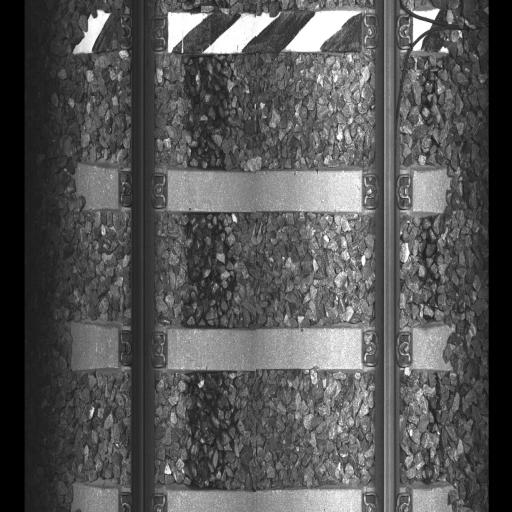clip: (118, 165, 168, 210), (360, 167, 413, 209), (116, 10, 167, 50), (116, 328, 168, 366), (360, 328, 412, 366), (362, 14, 414, 50), (118, 482, 168, 502), (362, 489, 408, 502)
sleeper: (70, 160, 467, 217), (68, 319, 466, 374), (72, 7, 466, 60), (68, 476, 466, 509)
